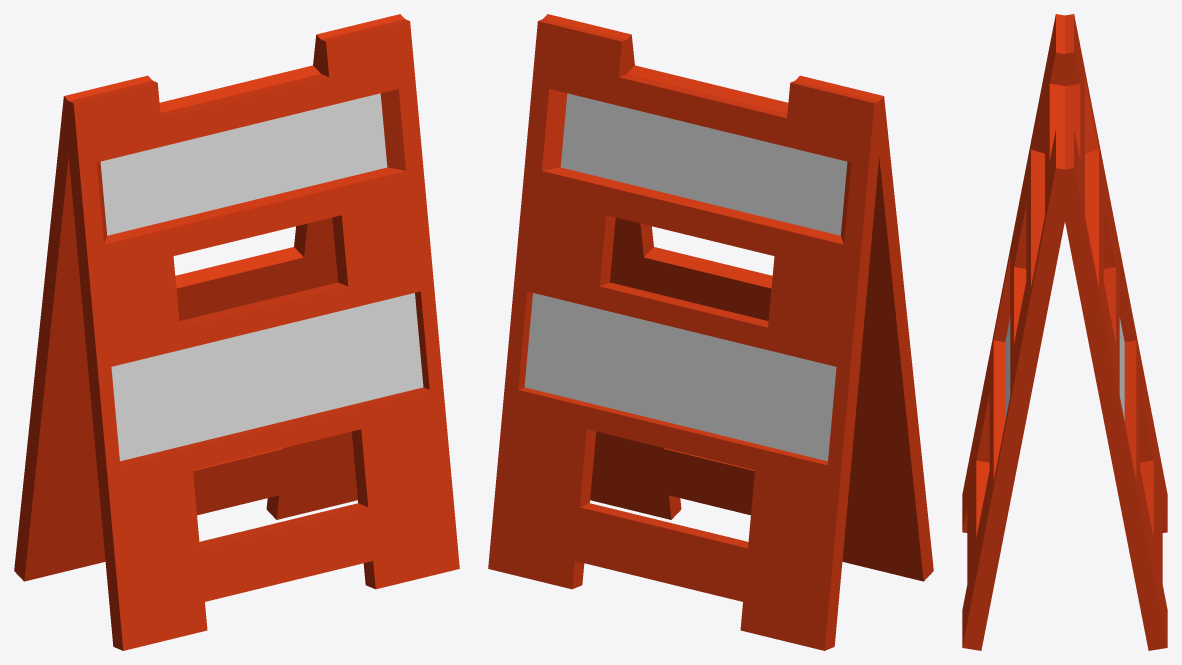
3 views of the same model, side by side, from view 1: azimuth 30°, elevation 25°; view 2: azimuth 150°, elevation 25°; view 3: azimuth 270°, elevation 25° (orthographic). The views are drawn at different scales.
Visible parts, largest first — view 1: O1; view 2: O1; view 3: O1.
Boxes of the visible parts, x1,y1,x2,y2 form: O1: [14, 14, 459, 650]; O1: [488, 14, 933, 650]; O1: [962, 14, 1167, 650].
Size of the model in its own units: 136 by 198 by 76.28.
